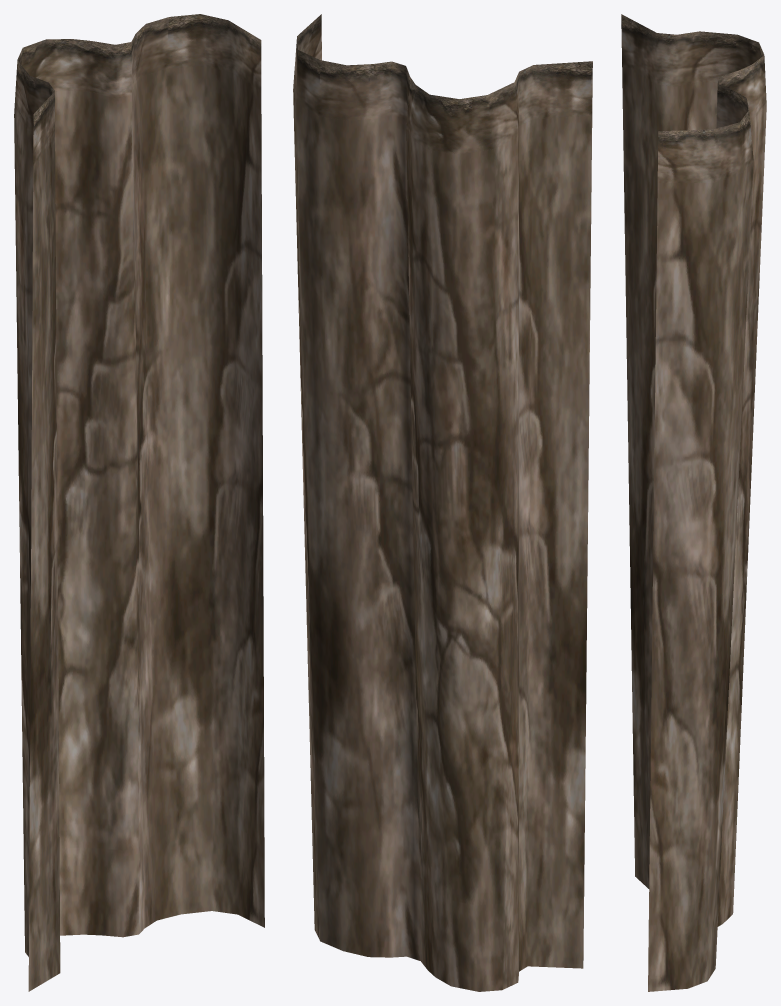
File: OVERHILL_A_01_WALL4.fbx
3 views of the same model, side by side, from view 1: azimuth 30°, elevation 25°; view 2: azimuth 150°, elevation 25°; view 3: azimuth 270°, elevation 25° (orthographic). The views are drawn at different scales.
Visible parts, largest first — view 1: OVERHILL_A_01_WALL4; view 2: OVERHILL_A_01_WALL4; view 3: OVERHILL_A_01_WALL4.
Part boxes in pixels (<box>): OVERHILL_A_01_WALL4: <box>14,14,264,991</box>; OVERHILL_A_01_WALL4: <box>293,14,592,991</box>; OVERHILL_A_01_WALL4: <box>621,14,766,991</box>.
Bounding box in the file's own units: 55827 × 191169 × 29266.
Materials: 2 (2 with a texture image).
